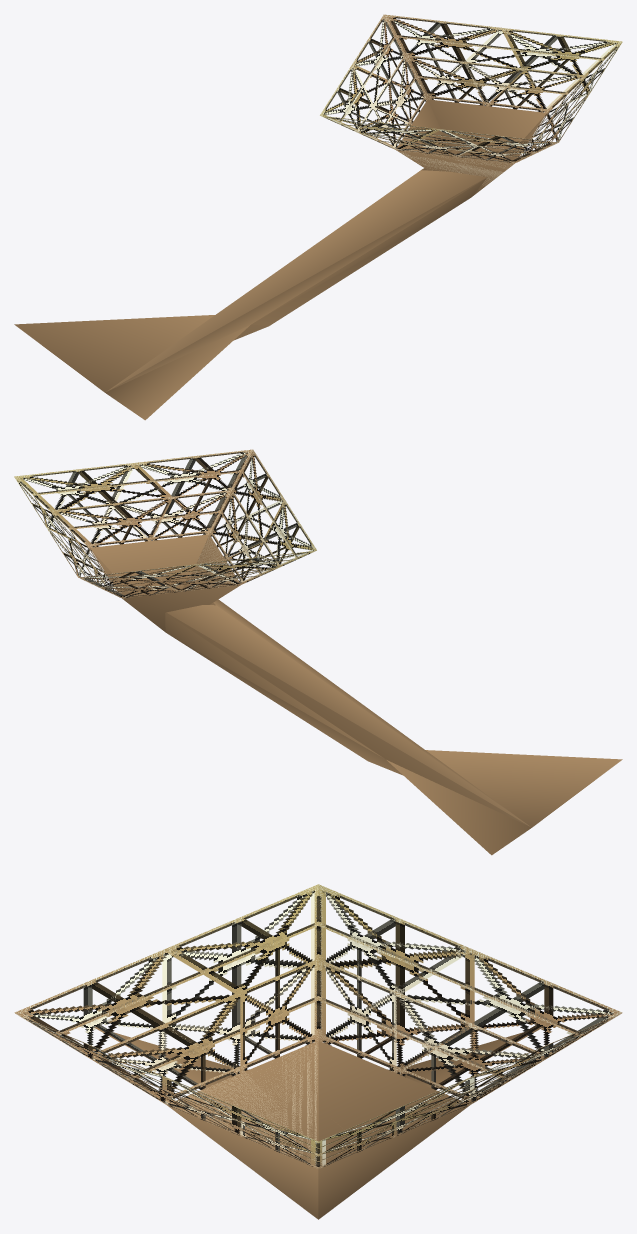
The model's file is uvmd-0087.glb.
3 renders of one model, top to bottom at view 1: azimuth 30°, elevation 25°; view 2: azimuth 150°, elevation 25°; view 3: azimuth 270°, elevation 25°, orthographic. The views are drawn at different scales.
Parts seen in each view (by area): view 1: uvmd-0087; view 2: uvmd-0087; view 3: uvmd-0087.
Boxes of the visible parts, x1,y1,x2,y2 form: uvmd-0087: (14,14,622,420); uvmd-0087: (14,449,622,855); uvmd-0087: (14,884,622,1219).
Bounding box in the file's own units: 43 × 17 × 24.
2 materials, 2 textured.
